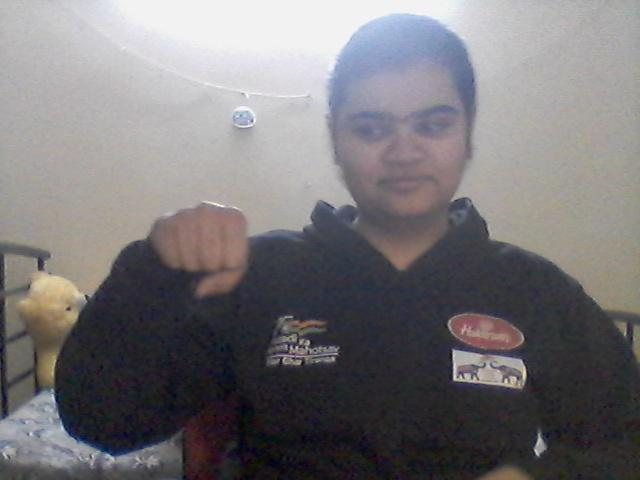yes: (148, 202, 259, 292)
